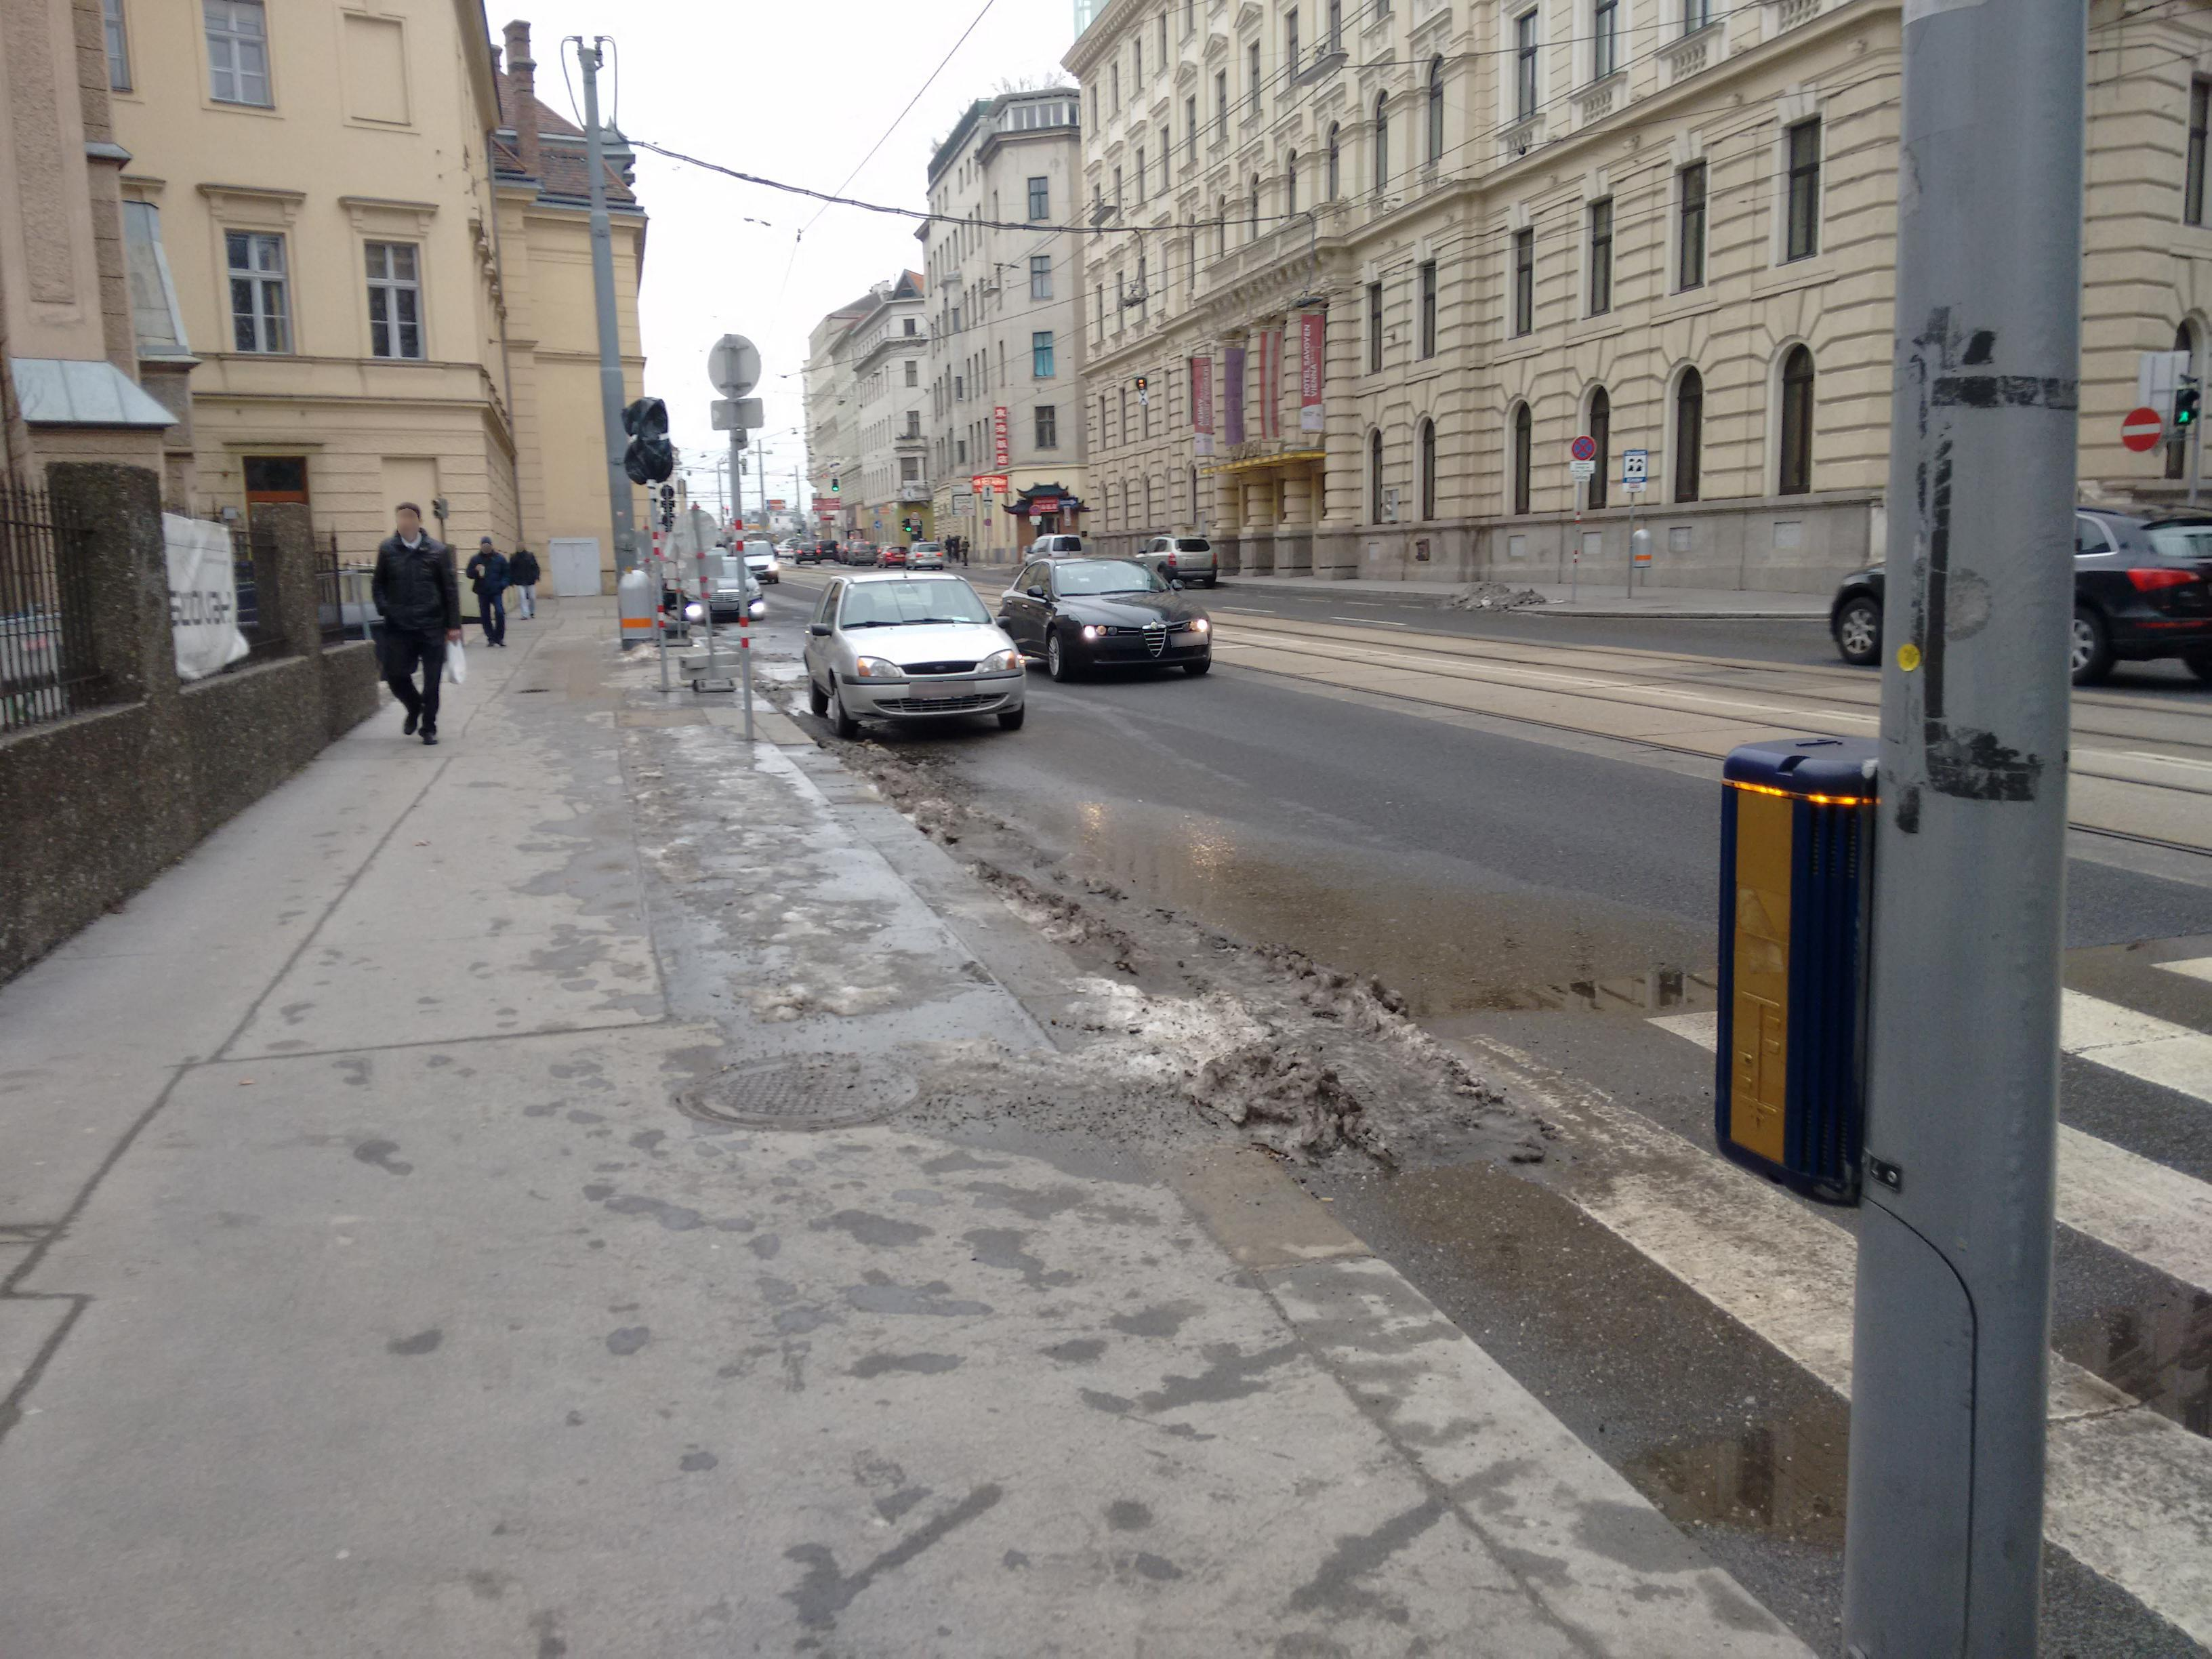vinyl banner: (139, 497, 296, 683)
